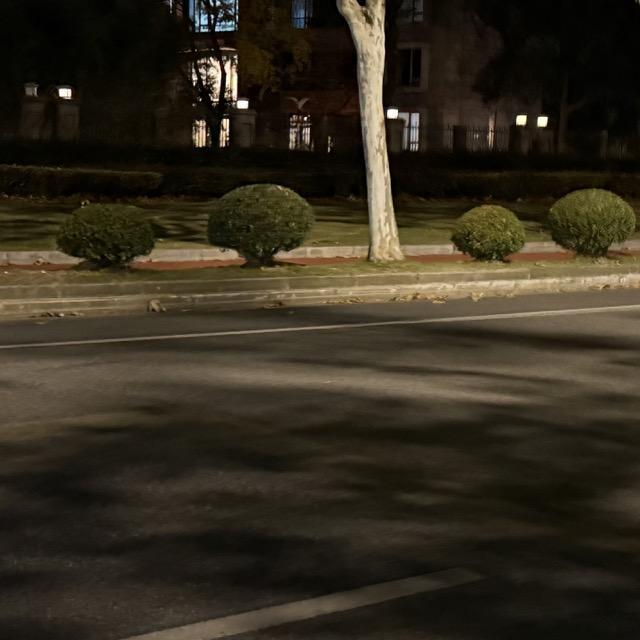curb: (1, 276, 640, 324), (0, 266, 640, 298)
